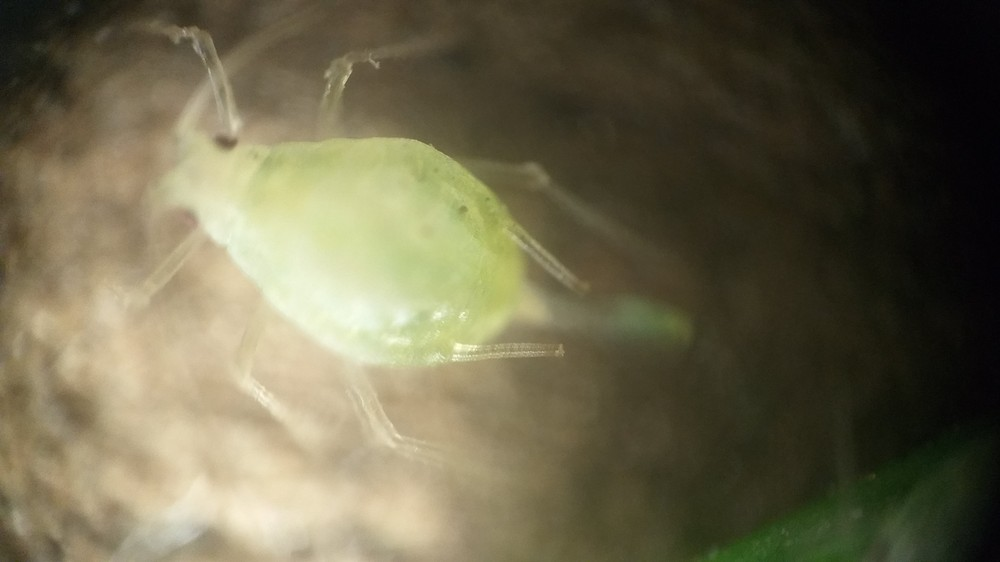Pulgon: (90, 17, 711, 480)
